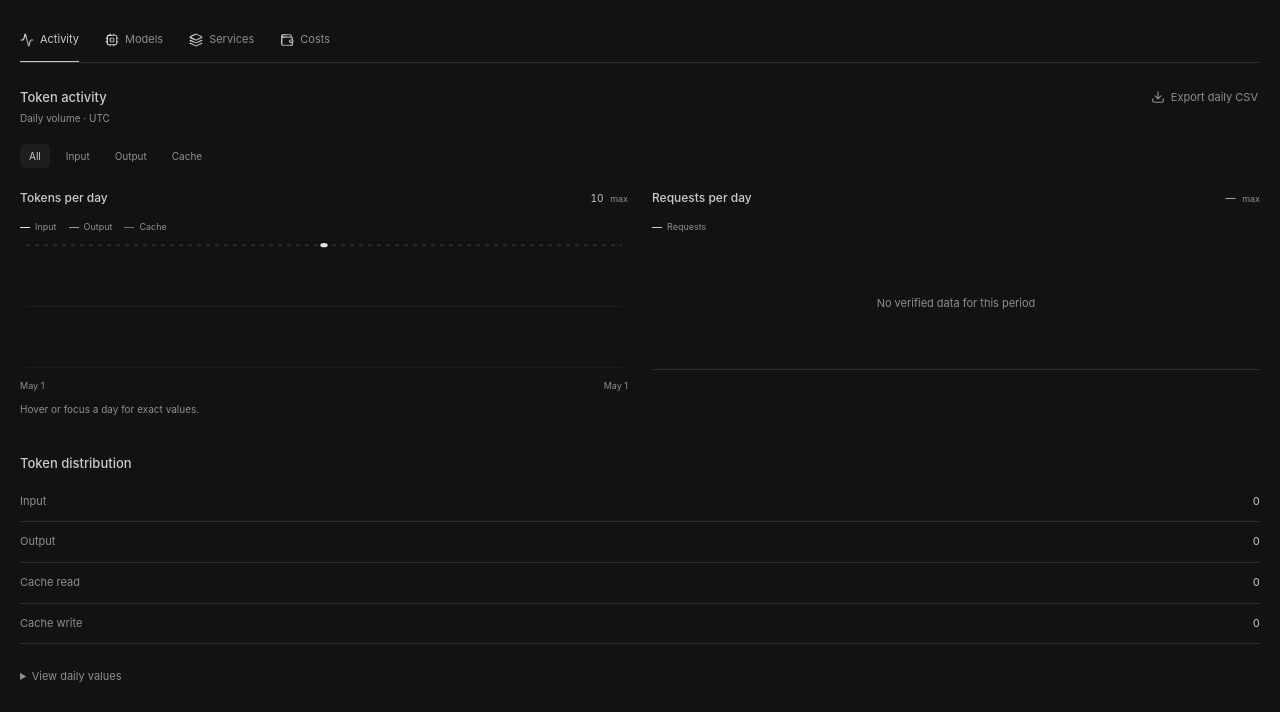
Test: shows unavailable request counters consistently in daily values, models and services
The image size is (1280, 712).
(page scrolled)
Step 1. Click the heading "View daily values" → (76, 676), box [32,669,121,683]
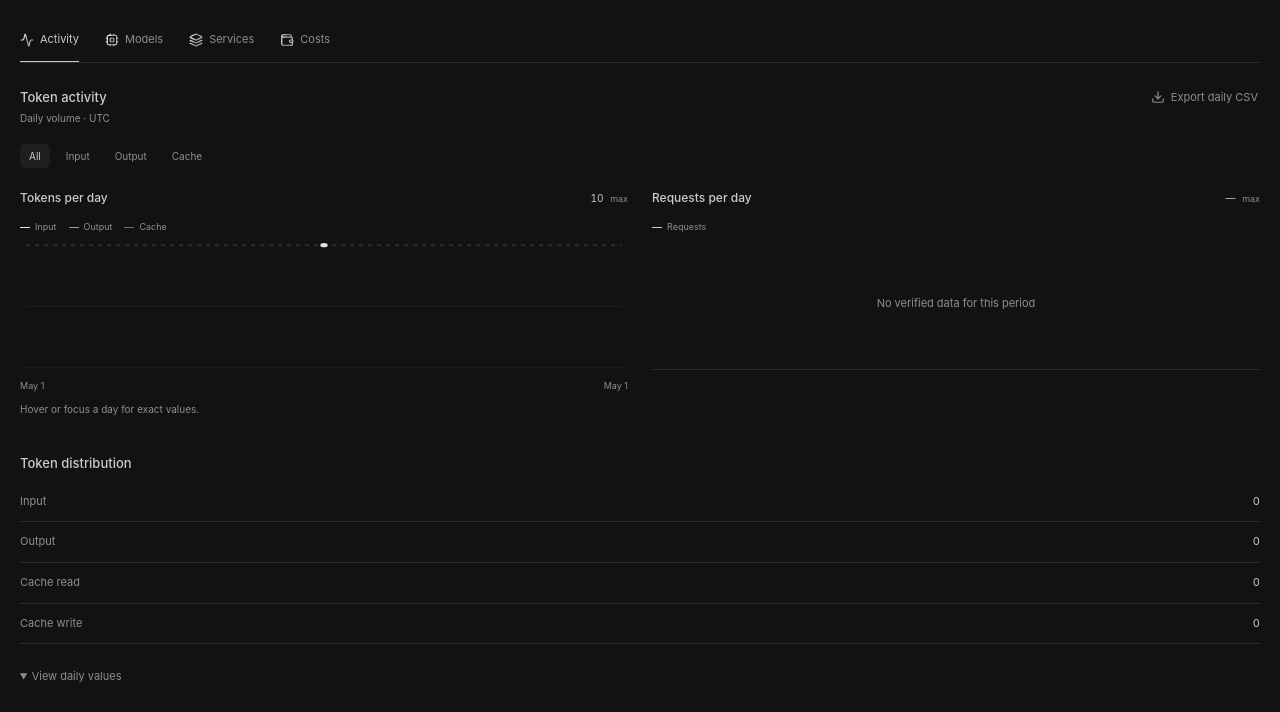
Step 2. Click the button "Models" → (134, 41), box [105,21,163,62]
(page scrolled)
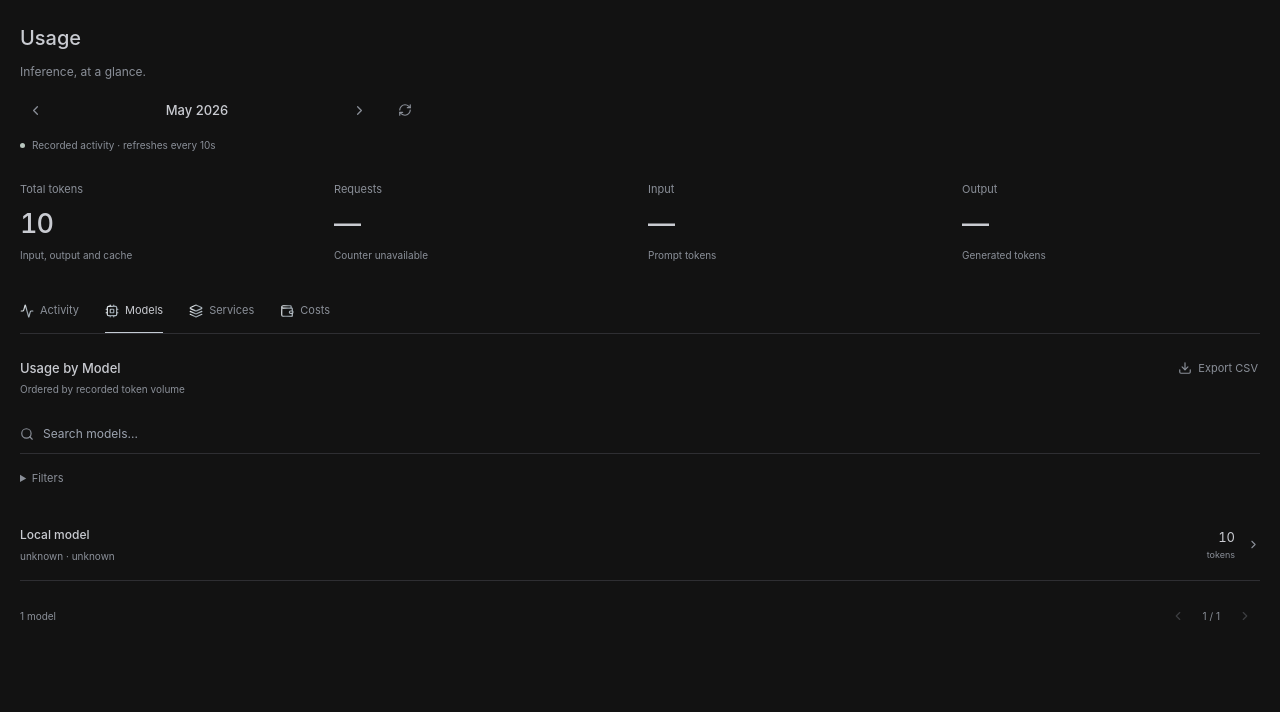
Step 3. Click the text "Local model" → (55, 535), box [20,527,90,542]
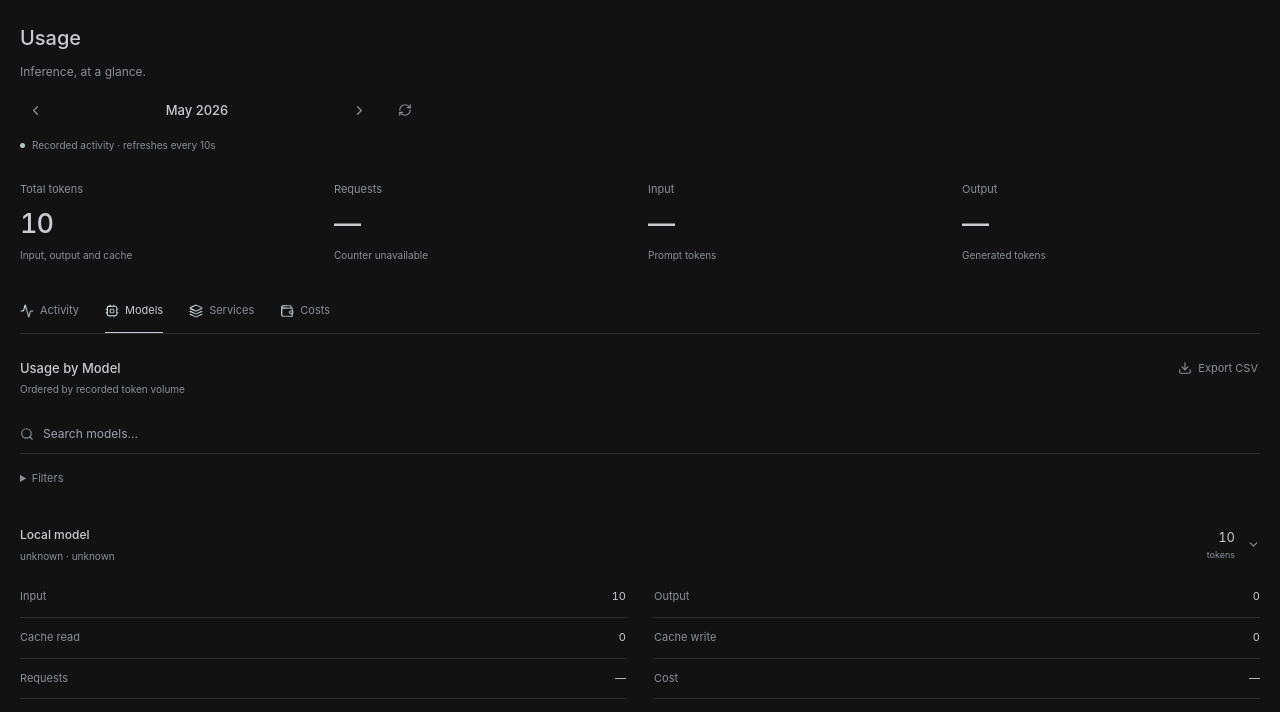
expect the 4th text "—" is shown: met, box [615,670,626,687]
Step 4. Click the button "Services" → (222, 312), box [189,292,254,333]
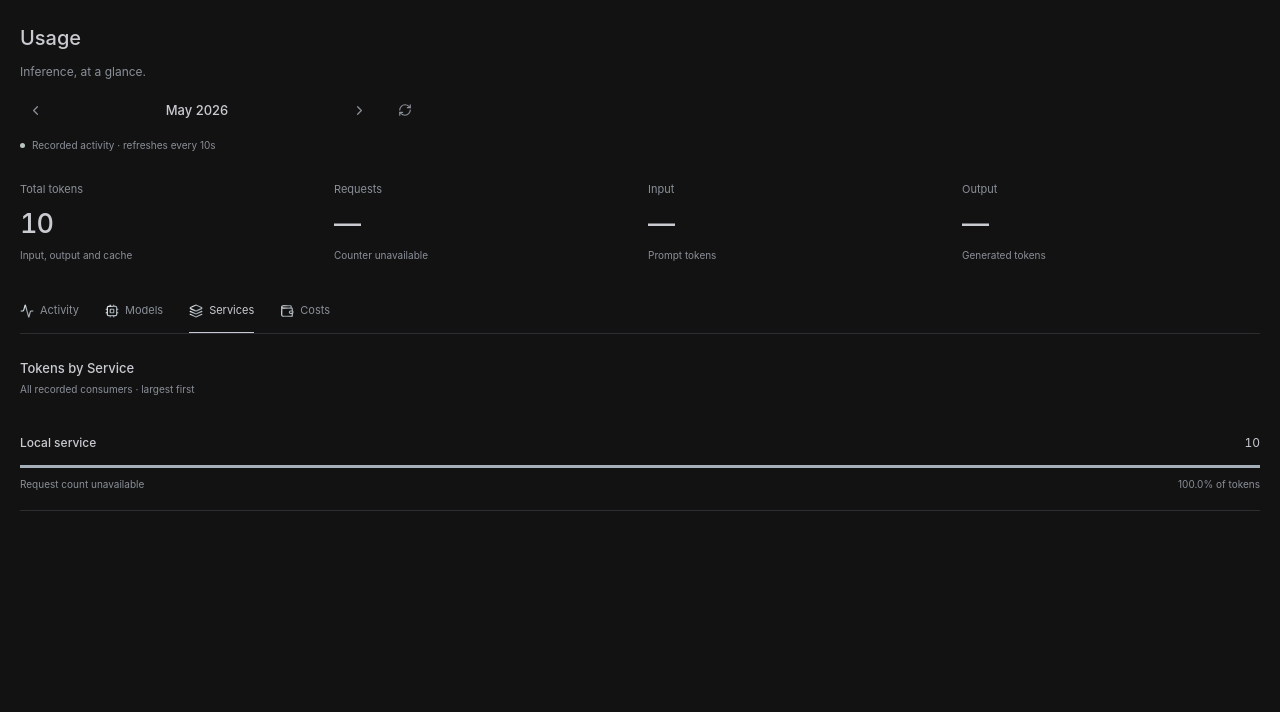
expect the text "Request count unavailable" is shown: met, box [20,476,144,492]
